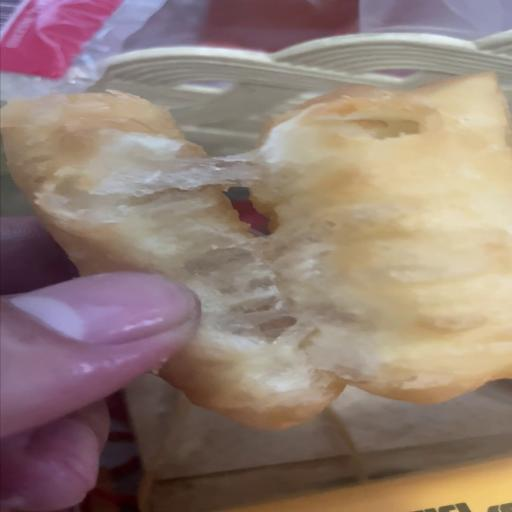street_golden_defect: (22, 75, 512, 417)
